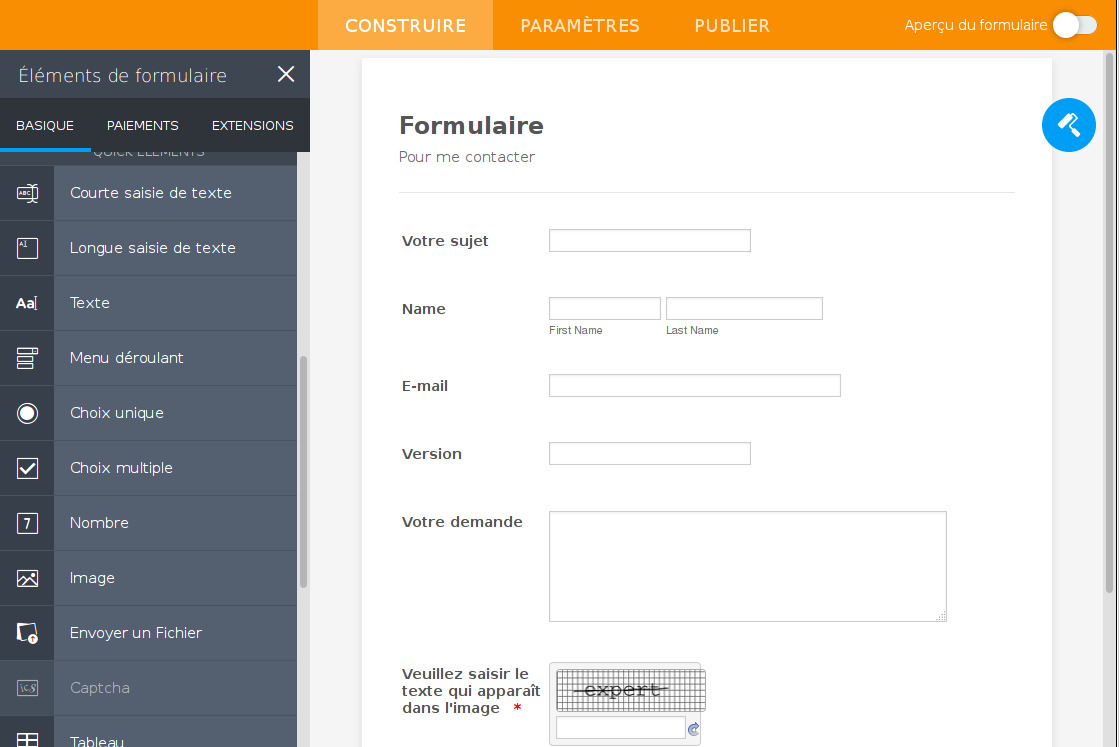_form_: (386, 423, 967, 726), (400, 484, 850, 747), (397, 219, 847, 481), (10, 348, 237, 560)
checkbox: (15, 456, 38, 483)
checkbox_with_label: (10, 451, 179, 488)
field: (542, 509, 951, 628), (542, 372, 843, 399), (545, 224, 753, 256), (546, 439, 753, 470), (663, 294, 821, 323), (555, 712, 688, 739), (546, 292, 662, 321)
field_with_label: (404, 505, 957, 633), (402, 369, 846, 402), (402, 221, 758, 260), (402, 435, 756, 473), (404, 289, 664, 323)
